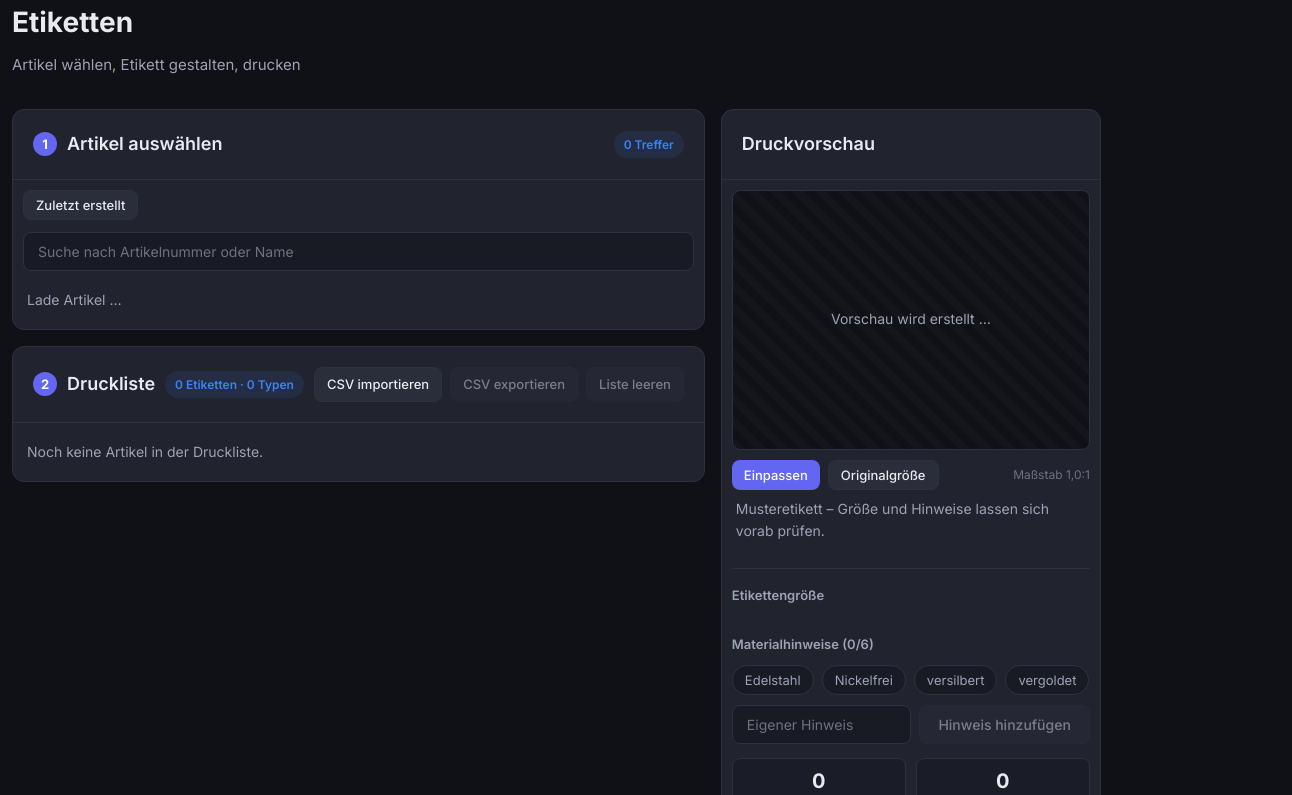
Test: Etiketten › Zuletzt erstellt › meldet Ladefehler im Fehlerbereich der Seite
Click the button "Zuletzt erstellt". click: (81, 205)
box: [23,190,138,220]
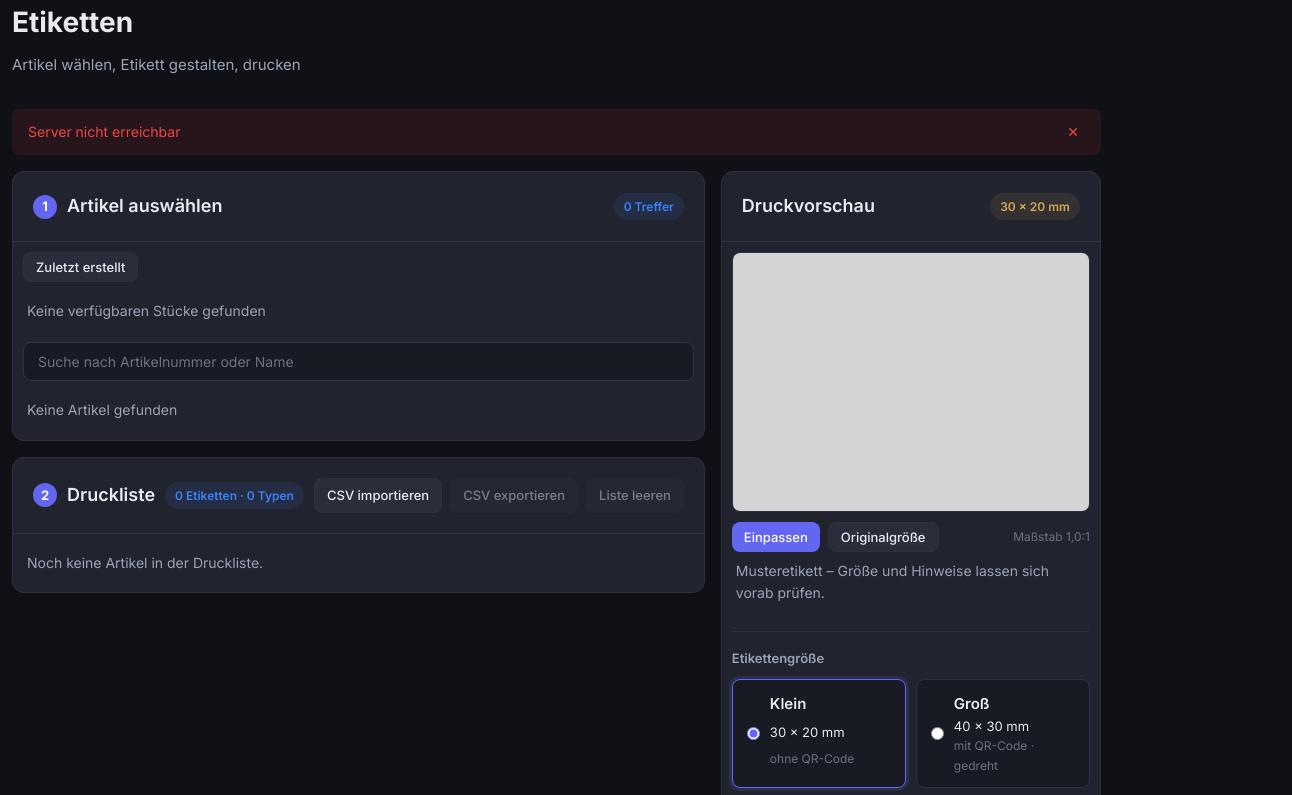
Now the message shows "Server nicht erreichbar", box [28,123,180,140]
